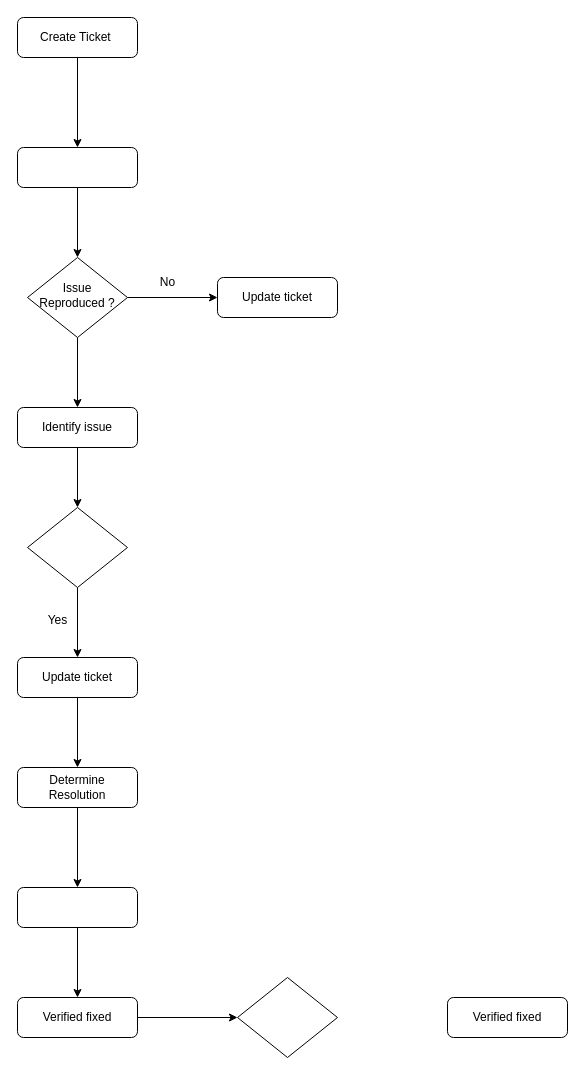
Image size: 585x1075. Some labels were removed from this diagram. Here are the shapes that lost their labels. From the top down, the box of each, then its label:
(16, 146, 138, 188): Reproduce issue
(26, 506, 128, 588): known issue ?
(16, 886, 138, 928): Fixed issue
(236, 976, 338, 1058): Verification?
